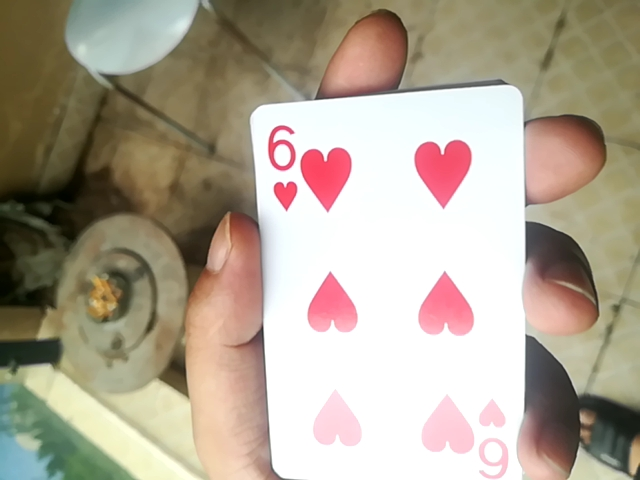hx 6: (255, 94, 533, 478)
